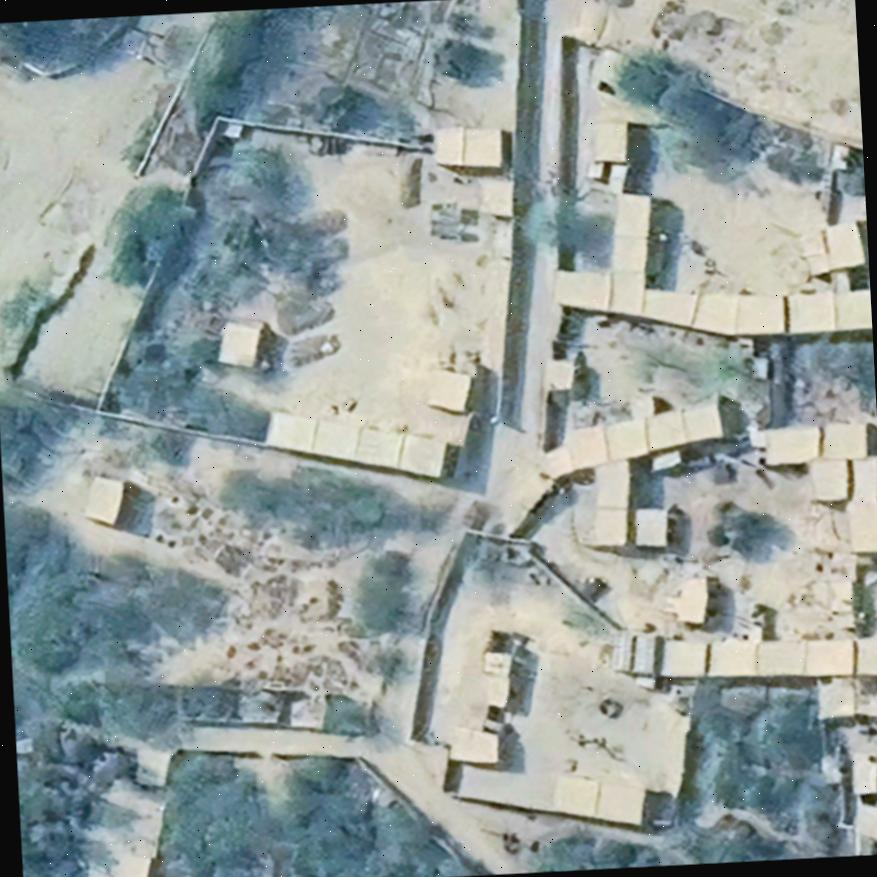Solarpanel: (610, 628, 633, 671), (633, 634, 656, 675)
